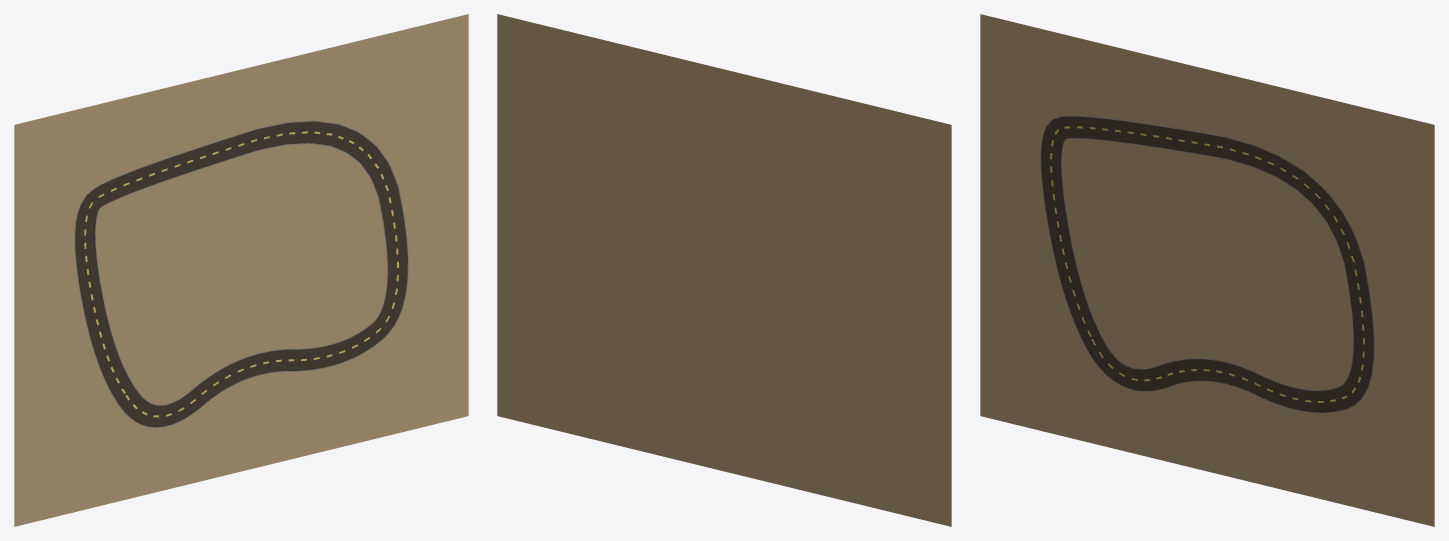
Rendered from track.obj.
The picture shows the model from 3 angles, left to right: view 1: azimuth 30°, elevation 25°; view 2: azimuth 150°, elevation 25°; view 3: azimuth 330°, elevation 25°; orthographic projection.
Bounding box in the file's own units: 23.08 × 19.5 × 0.0025.
Materials: 4 (4 with a texture image).
